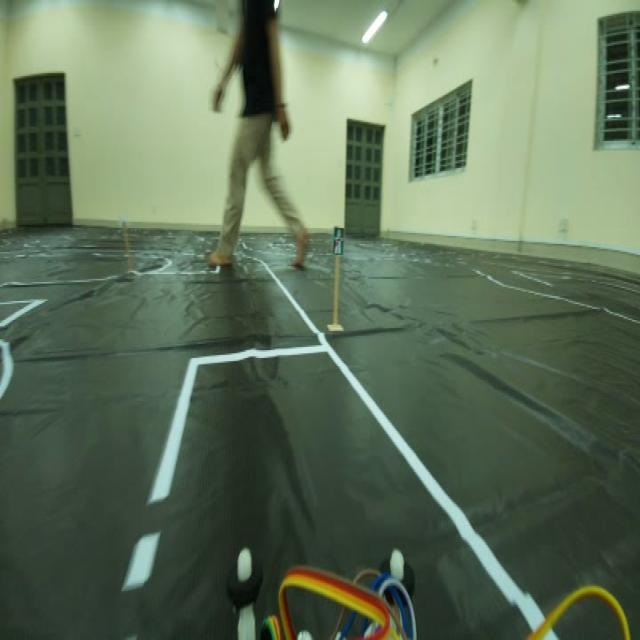highway_exit: (323, 223, 348, 260)
